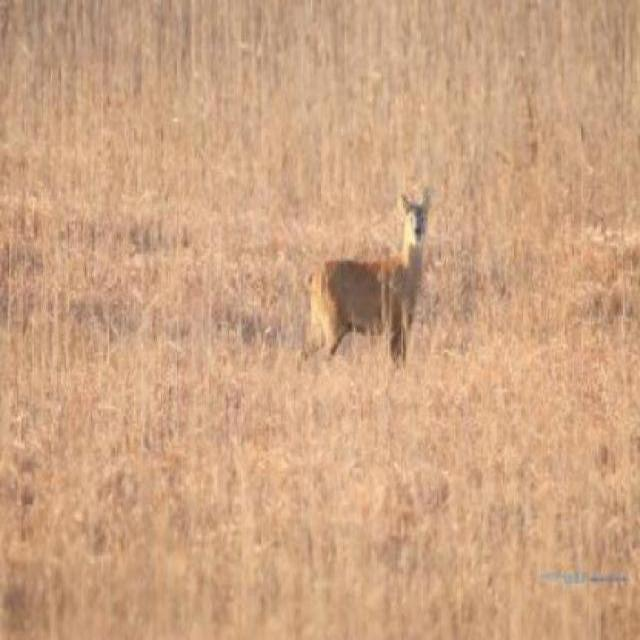deer: (301, 179, 434, 376)
